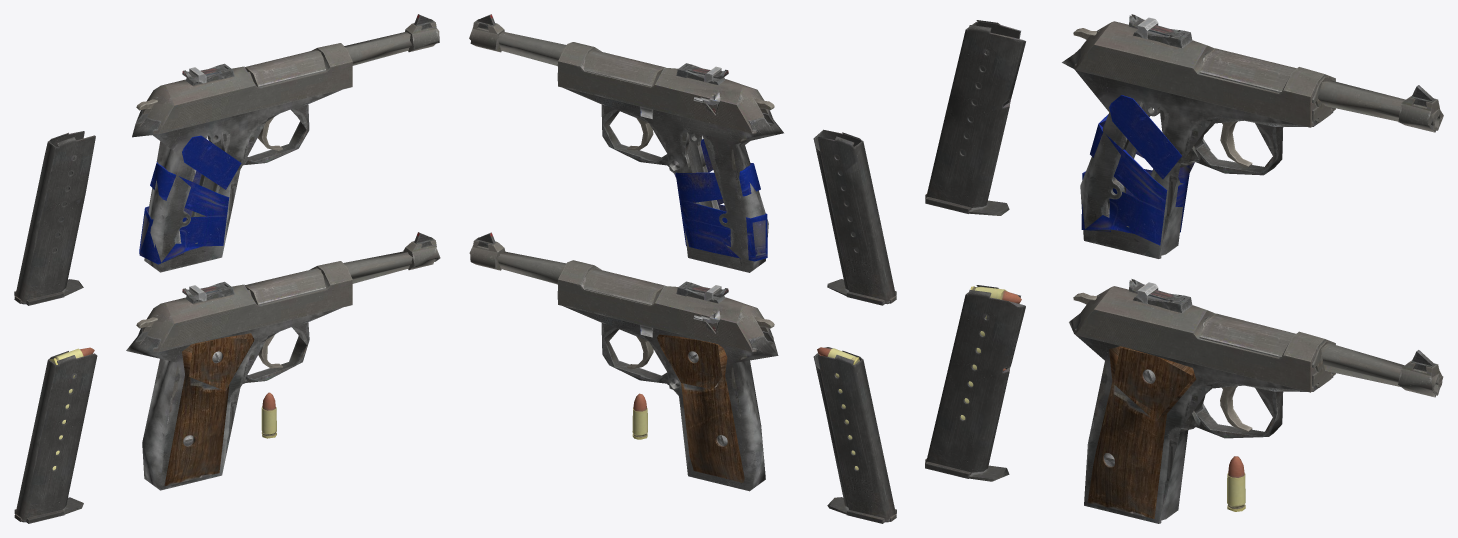
Rendered from service_pistol.gltf.
3 renders of one model, left to right at view 1: azimuth 30°, elevation 25°; view 2: azimuth 150°, elevation 25°; view 3: azimuth 330°, elevation 25°, orthographic. The views are drawn at different scales.
Visible parts, largest first — view 1: service_pistol_pistol_a, service_pistol_pistol_b, service_pistol_magazine_loaded, service_pistol_magazine_empty, service_pistol_slide_a, service_pistol_slide_b, service_pistol_bullet; view 2: service_pistol_pistol_b, service_pistol_pistol_a, service_pistol_magazine_loaded, service_pistol_magazine_empty, service_pistol_slide_b, service_pistol_slide_a, service_pistol_bullet; view 3: service_pistol_pistol_b, service_pistol_pistol_a, service_pistol_magazine_loaded, service_pistol_magazine_empty, service_pistol_slide_a, service_pistol_slide_b, service_pistol_bullet, service_pistol_trigger_a, service_pistol_trigger_b.
Part boxes in pixels (x1,y1,x2,y2): service_pistol_pistol_a: [126, 232, 440, 490]; service_pistol_pistol_b: [132, 14, 439, 272]; service_pistol_magazine_loaded: [14, 347, 97, 523]; service_pistol_magazine_empty: [14, 131, 95, 305]; service_pistol_slide_a: [142, 261, 352, 352]; service_pistol_slide_b: [142, 43, 352, 134]; service_pistol_bullet: [261, 392, 276, 438]; service_pistol_pistol_b: [469, 14, 783, 272]; service_pistol_pistol_a: [469, 232, 778, 491]; service_pistol_magazine_loaded: [813, 347, 896, 523]; service_pistol_magazine_empty: [813, 129, 896, 305]; service_pistol_slide_b: [558, 42, 773, 133]; service_pistol_slide_a: [558, 260, 773, 351]; service_pistol_bullet: [632, 393, 647, 439]; service_pistol_pistol_b: [1062, 48, 1443, 258]; service_pistol_pistol_a: [1069, 313, 1443, 523]; service_pistol_magazine_loaded: [925, 285, 1025, 481]; service_pistol_magazine_empty: [925, 20, 1025, 215]; service_pistol_slide_a: [1074, 279, 1335, 392]; service_pistol_slide_b: [1074, 14, 1335, 127]; service_pistol_bullet: [1227, 456, 1245, 511]; service_pistol_trigger_a: [1220, 386, 1252, 432]; service_pistol_trigger_b: [1220, 121, 1252, 167].
Size of the model in its own units: 0.3016 by 0.2807 by 0.0313.
Materials: 1 (1 with a texture image).
